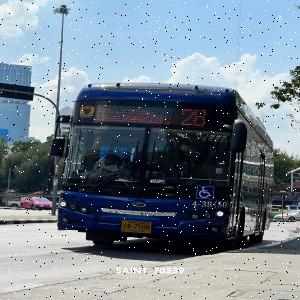BMTA-bus: (52, 82, 275, 250)
Bus Line Number: (178, 105, 212, 130)
Bus Side Number: (191, 201, 231, 209)
Destination Sign: (96, 103, 175, 132)
